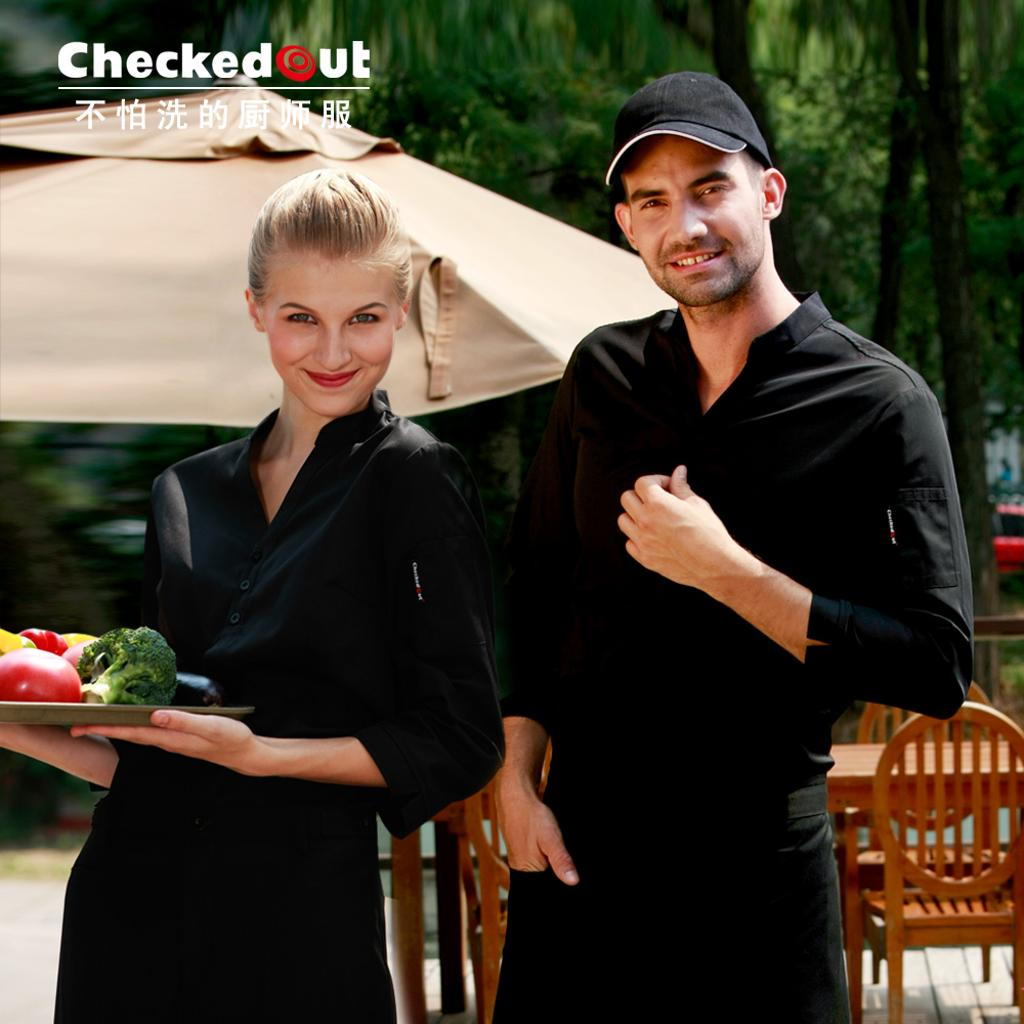face: (620, 136, 764, 308), (268, 244, 396, 416)
